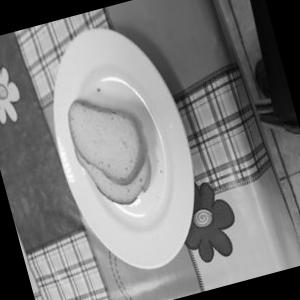bread: (48, 70, 170, 206)
